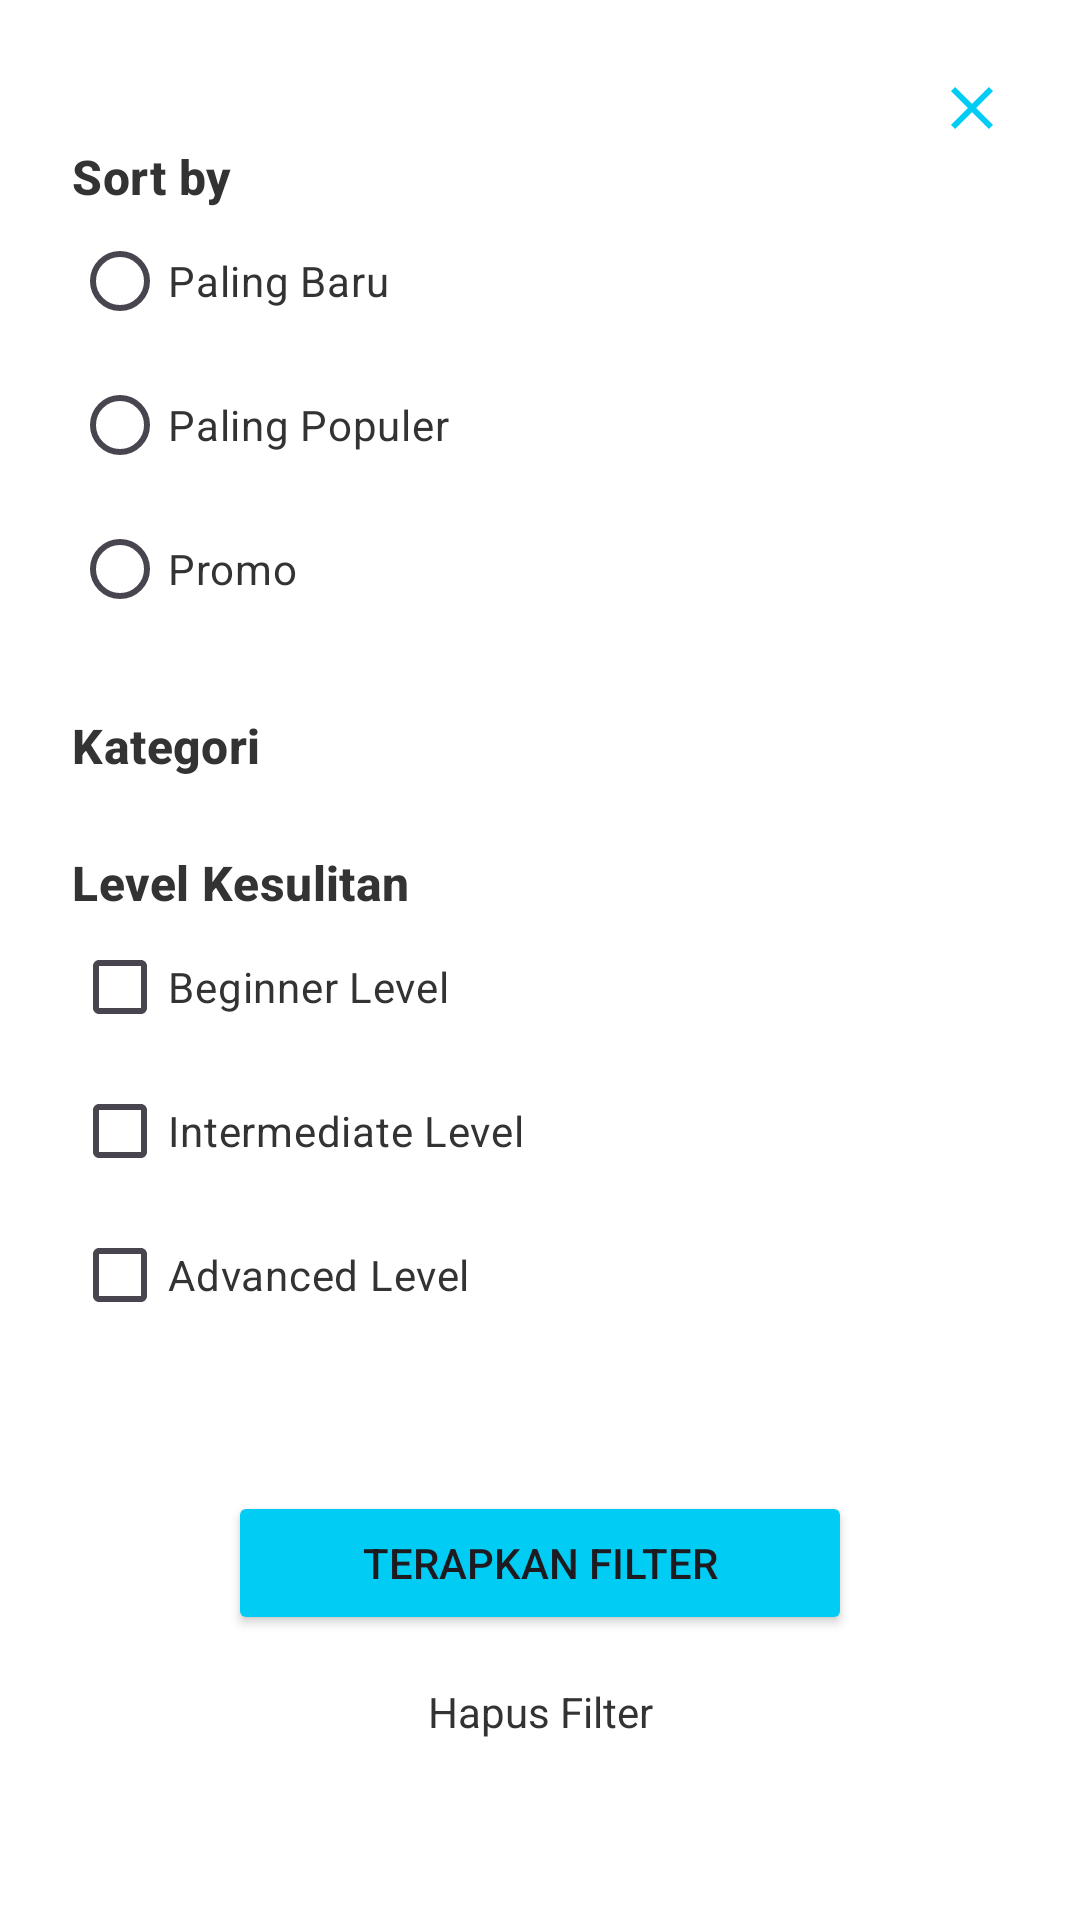

Icon click points for this 1080 x 1920 phone screenshot, format (x=x, y=y):
close: (x=972, y=108)
